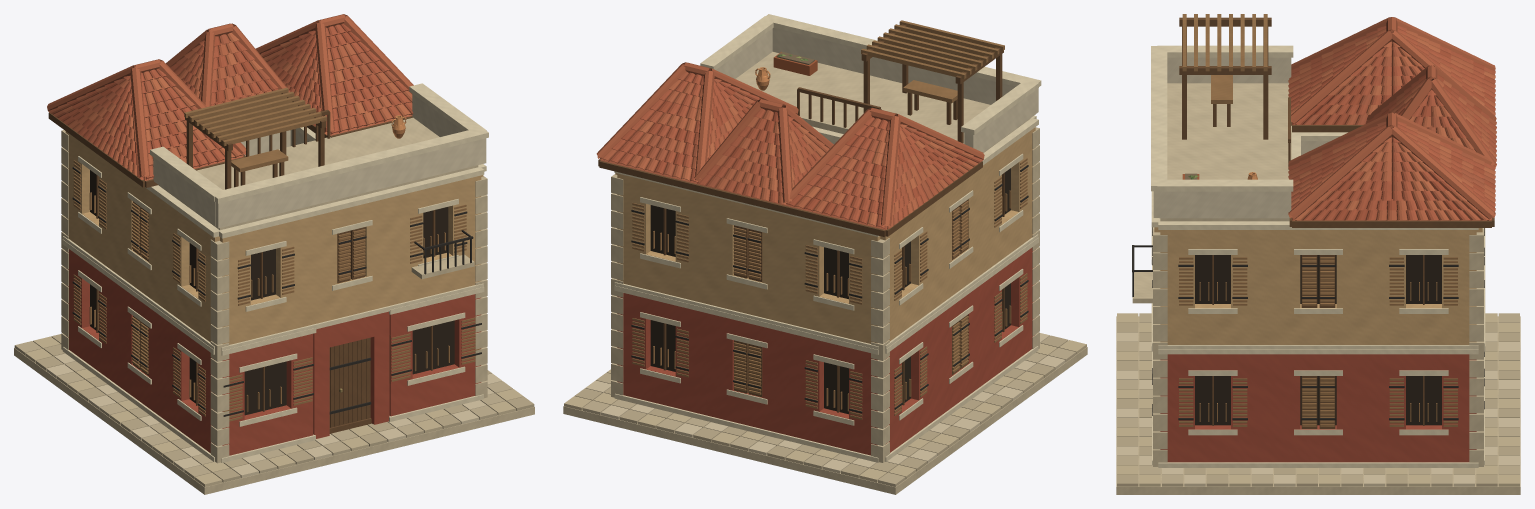
The model's file is verona_terrace_house.glb.
3 renders of one model, left to right at view 1: azimuth 30°, elevation 25°; view 2: azimuth 150°, elevation 25°; view 3: azimuth 270°, elevation 25°, orthographic. The views are drawn at different scales.
Visible parts, largest first — view 1: Warm_ochre.002, Pompeian_red.002, Warm_ochre.001, Oak_edge.002, Limestone_trim.001, Limestone_trim.002, Travertine.001, Travertine.002, Pompeian_red.001, Tile_0.002, Tile_1.002, Limewash.002 (+16 smaller); view 2: Warm_ochre.002, Pompeian_red.002, Warm_ochre.001, Pompeian_red.001, Oak_edge.002, Travertine.001, Limestone_trim.001, Travertine.002, Tile_1.002, Tile_0.002, Limestone_trim.002, Oak.002 (+16 smaller); view 3: Warm_ochre.002, Pompeian_red.002, Travertine.002, Travertine.001, Tile_1.002, Pompeian_red.001, Tile_0.002, Limestone_trim.002, Limestone_trim.001, Warm_ochre.001, Oak_edge.002, Interior_shadow.002 (+16 smaller).
Part boxes in pixels (box(x1,y1,x2,y2)): Warm_ochre.002: box(66, 131, 482, 344); Pompeian_red.002: box(66, 249, 480, 455); Warm_ochre.001: box(65, 131, 483, 344); Oak_edge.002: box(73, 87, 480, 421); Limestone_trim.001: box(62, 83, 488, 462); Limestone_trim.002: box(63, 84, 487, 461); Travertine.001: box(14, 117, 534, 494); Travertine.002: box(15, 130, 533, 492); Pompeian_red.001: box(66, 258, 481, 452); Tile_0.002: box(58, 24, 413, 179); Tile_1.002: box(47, 14, 413, 179); Limewash.002: box(153, 94, 485, 227); Warm_ochre.002: box(616, 128, 1034, 343); Pompeian_red.002: box(618, 247, 1034, 455); Warm_ochre.001: box(615, 127, 1035, 343); Pompeian_red.001: box(617, 248, 1035, 455); Oak_edge.002: box(632, 20, 1027, 419); Travertine.001: box(563, 52, 1087, 494); Limestone_trim.001: box(614, 14, 1041, 462); Travertine.002: box(565, 52, 1039, 492); Tile_1.002: box(597, 62, 984, 229); Tile_0.002: box(608, 72, 982, 228); Limestone_trim.002: box(615, 14, 1038, 461); Oak.002: box(598, 24, 1004, 412); Warm_ochre.002: box(1155, 227, 1481, 344); Pompeian_red.002: box(1161, 354, 1475, 462); Travertine.002: box(1118, 83, 1518, 493); Travertine.001: box(1116, 85, 1520, 494); Tile_1.002: box(1288, 17, 1496, 220); Pompeian_red.001: box(1160, 354, 1476, 462); Tile_0.002: box(1288, 26, 1496, 220); Limestone_trim.002: box(1152, 46, 1484, 467); Limestone_trim.001: box(1151, 45, 1485, 467); Warm_ochre.001: box(1154, 227, 1482, 344); Oak_edge.002: box(1179, 14, 1457, 426); Interior_shadow.002: box(1195, 255, 1441, 424).
Size of the model in its own units: 9.2 by 8.51 by 9.2.
28 materials, 8 textured.
